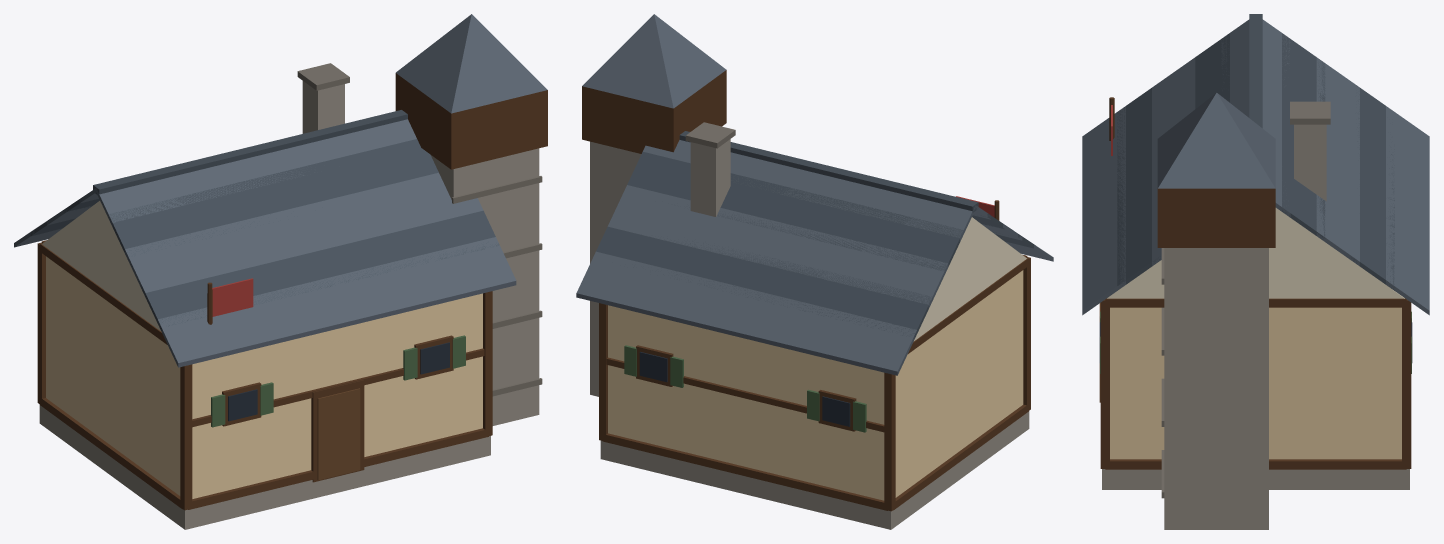
The model's file is town_center.glb.
3 views of the same model, side by side, from view 1: azimuth 30°, elevation 25°; view 2: azimuth 150°, elevation 25°; view 3: azimuth 270°, elevation 25° (orthographic). The views are drawn at different scales.
Visible parts, largest first — view 1: town_center; view 2: town_center; view 3: town_center.
Boxes of the visible parts, x1,y1,x2,y2 form: town_center: (14, 14, 547, 529); town_center: (576, 14, 1053, 529); town_center: (1082, 14, 1429, 529).
Bounding box in the file's own units: 7.55 × 7 × 5.3.
